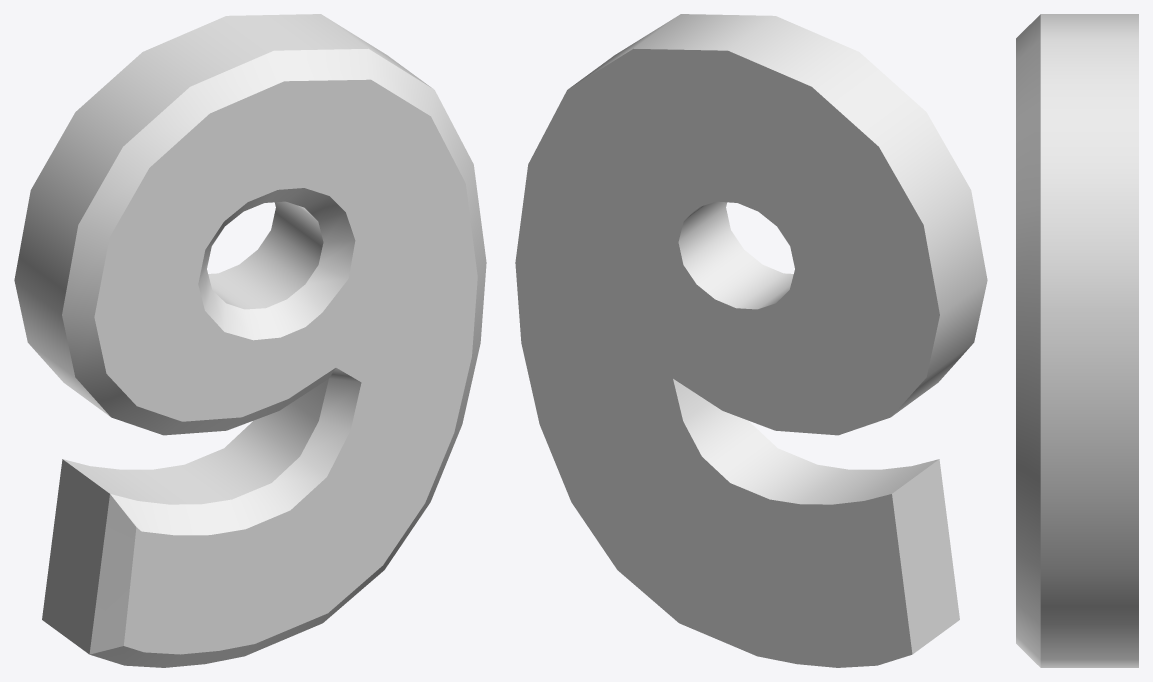
The model's file is LettersStylized01_9.FBX.
3 renders of one model, left to right at view 1: azimuth 30°, elevation 25°; view 2: azimuth 150°, elevation 25°; view 3: azimuth 270°, elevation 25°, orthographic. The views are drawn at different scales.
Parts seen in each view (by area): view 1: LettersStylized01_9; view 2: LettersStylized01_9; view 3: LettersStylized01_9.
Boxes of the visible parts, x1=… form: LettersStylized01_9: x1=14, y1=14, x2=486, y2=667; LettersStylized01_9: x1=515, y1=14, x2=987, y2=667; LettersStylized01_9: x1=1016, y1=14, x2=1138, y2=667.
Size of what is drawn, in the model's own units: 0.3422 by 0.461 by 0.083.
